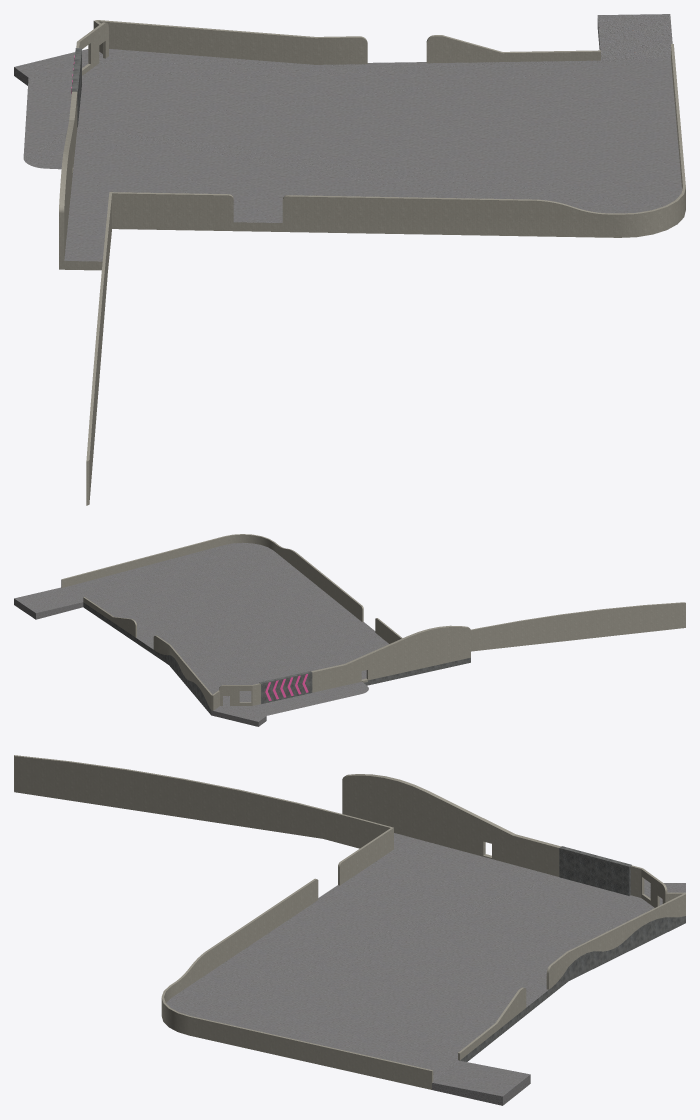
The model's file is Backstage.dae.
3 renders of one model, top to bottom at view 1: azimuth 30°, elevation 25°; view 2: azimuth 150°, elevation 25°; view 3: azimuth 270°, elevation 25°, orthographic. The views are drawn at different scales.
Visible parts, largest first — view 1: Backstage (×4); view 2: Backstage (×7); view 3: Backstage (×6).
Boxes of the visible parts, bbox=[...] form: Backstage (×4): bbox=[14, 14, 685, 505]; Backstage (×7): bbox=[14, 534, 685, 726]; Backstage (×6): bbox=[14, 755, 685, 1105].
Size of the model in its own units: 4088 by 3307 by 522.
